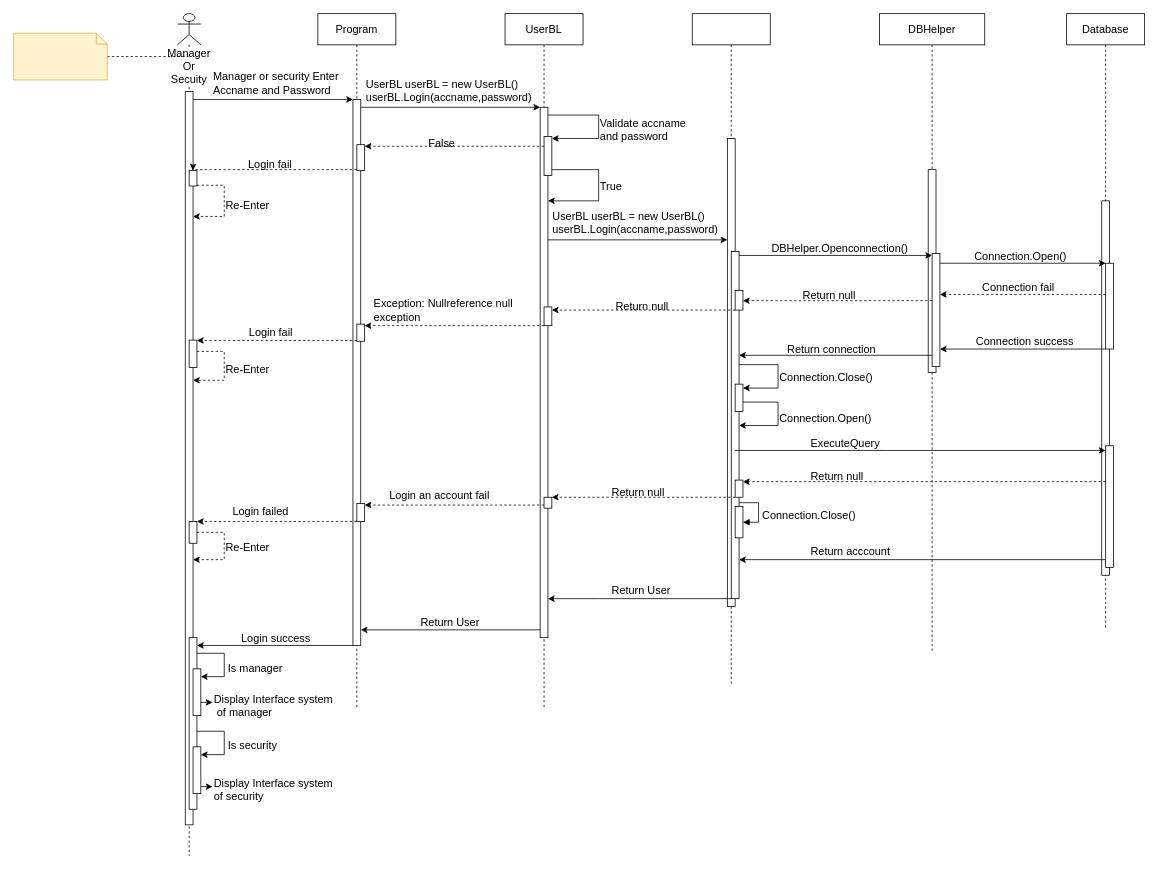
The diagram is 1158 pixels wide and 870 high, and some of its shapes have lost their labels. Each missing label, with the centre of its shape:
"Management and security must have an account" goes at pixel 60 56.
"UserDAL" goes at pixel 730 348.
